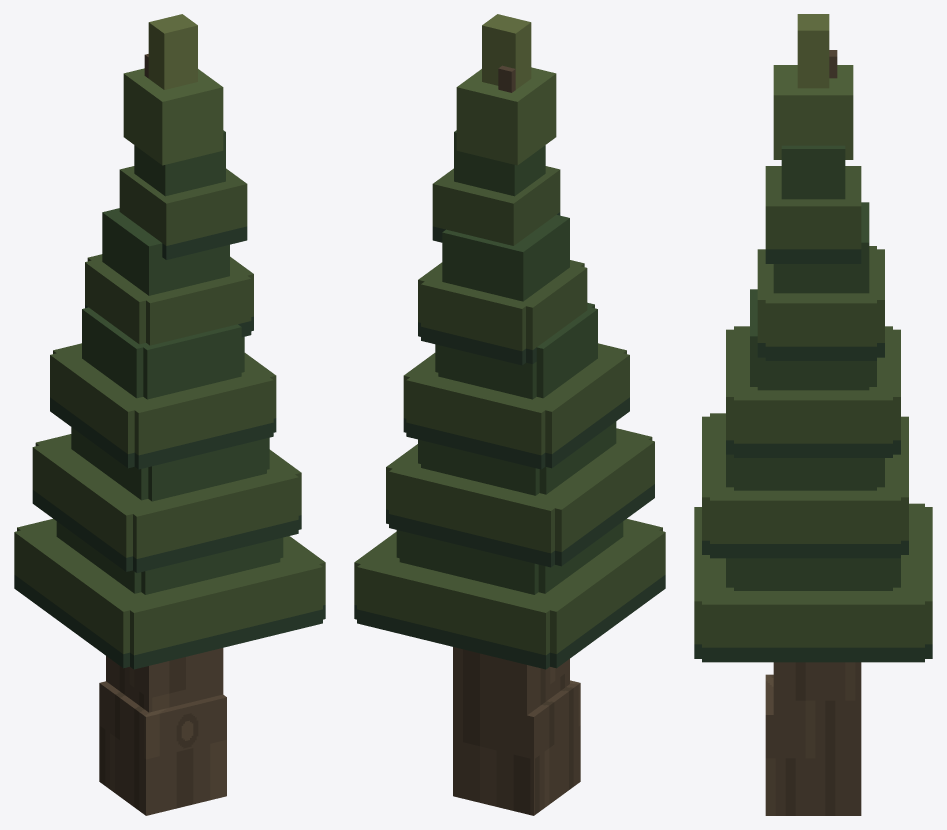
File: pine_ancient.glb
3 renders of one model, left to right at view 1: azimuth 30°, elevation 25°; view 2: azimuth 150°, elevation 25°; view 3: azimuth 270°, elevation 25°, orthographic. The views are drawn at different scales.
Visible parts, largest first — view 1: VoxelVisual; view 2: VoxelVisual; view 3: VoxelVisual.
Boxes of the visible parts, x1=… form: VoxelVisual: x1=14, y1=14, x2=325, y2=815; VoxelVisual: x1=354, y1=14, x2=665, y2=815; VoxelVisual: x1=694, y1=14, x2=932, y2=815.
Size of what is drawn, in the model's own units: 7.5 by 27 by 7.5.
